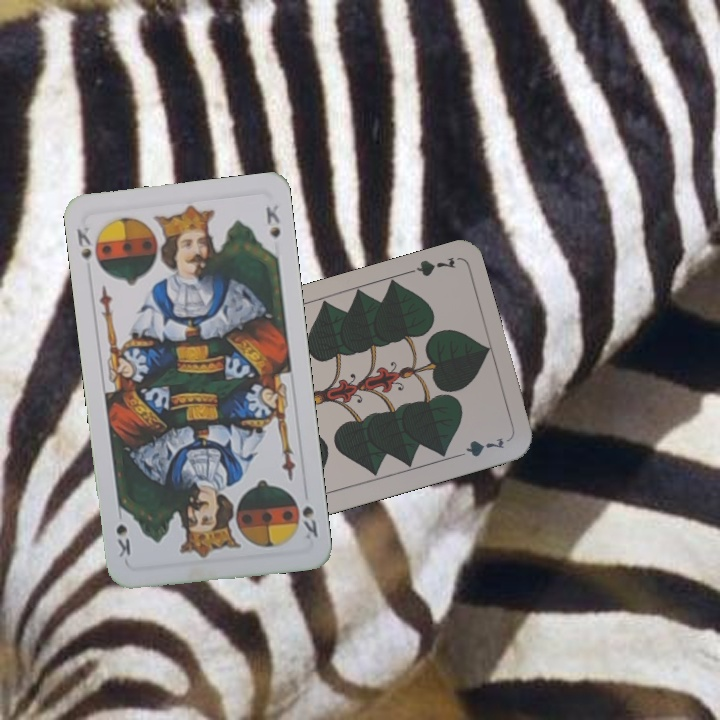G7: (398, 253, 458, 279)
SK: (72, 223, 94, 265), (298, 501, 320, 542)
